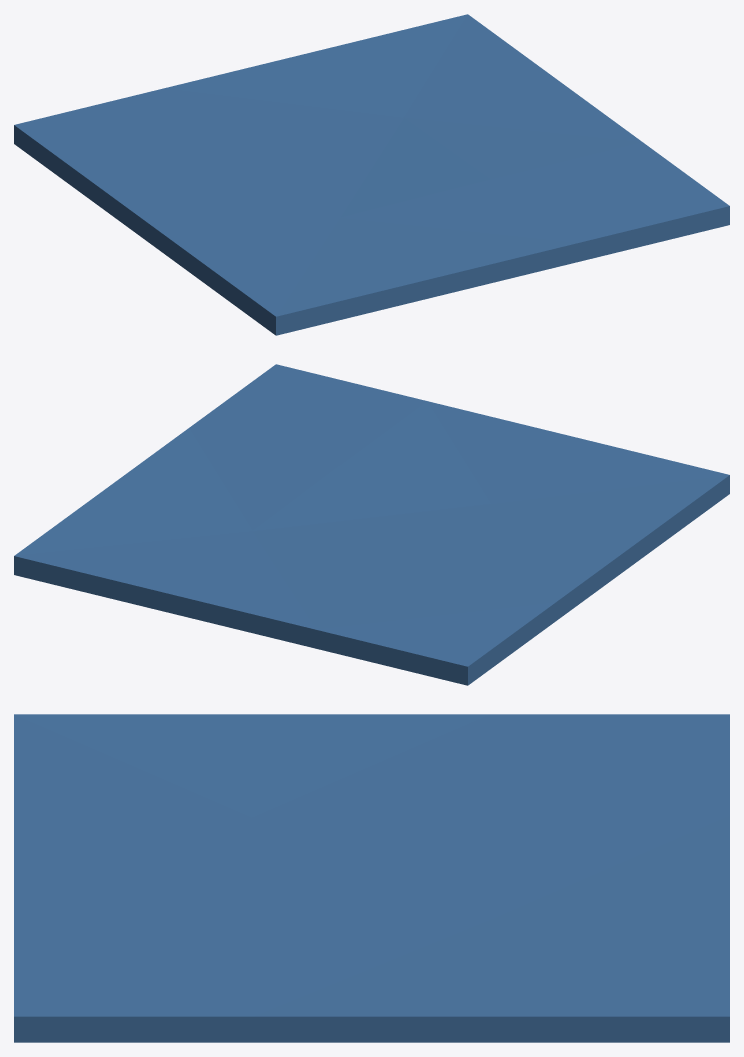
Rendered from FMS_Garden_Pond_Water.fbx.
3 views of the same model, one above another, from view 1: azimuth 30°, elevation 25°; view 2: azimuth 150°, elevation 25°; view 3: azimuth 270°, elevation 25° (orthographic). The views are drawn at different scales.
Parts seen in each view (by area): view 1: FMS_Garden_Pond_Water_Body; view 2: FMS_Garden_Pond_Water_Body; view 3: FMS_Garden_Pond_Water_Body.
Part boxes in pixels (x1,y1,x2,y2): FMS_Garden_Pond_Water_Body: (14, 14, 729, 335); FMS_Garden_Pond_Water_Body: (14, 364, 729, 685); FMS_Garden_Pond_Water_Body: (14, 714, 729, 1042).
Bounding box in the file's own units: 1 × 0.04 × 1.
